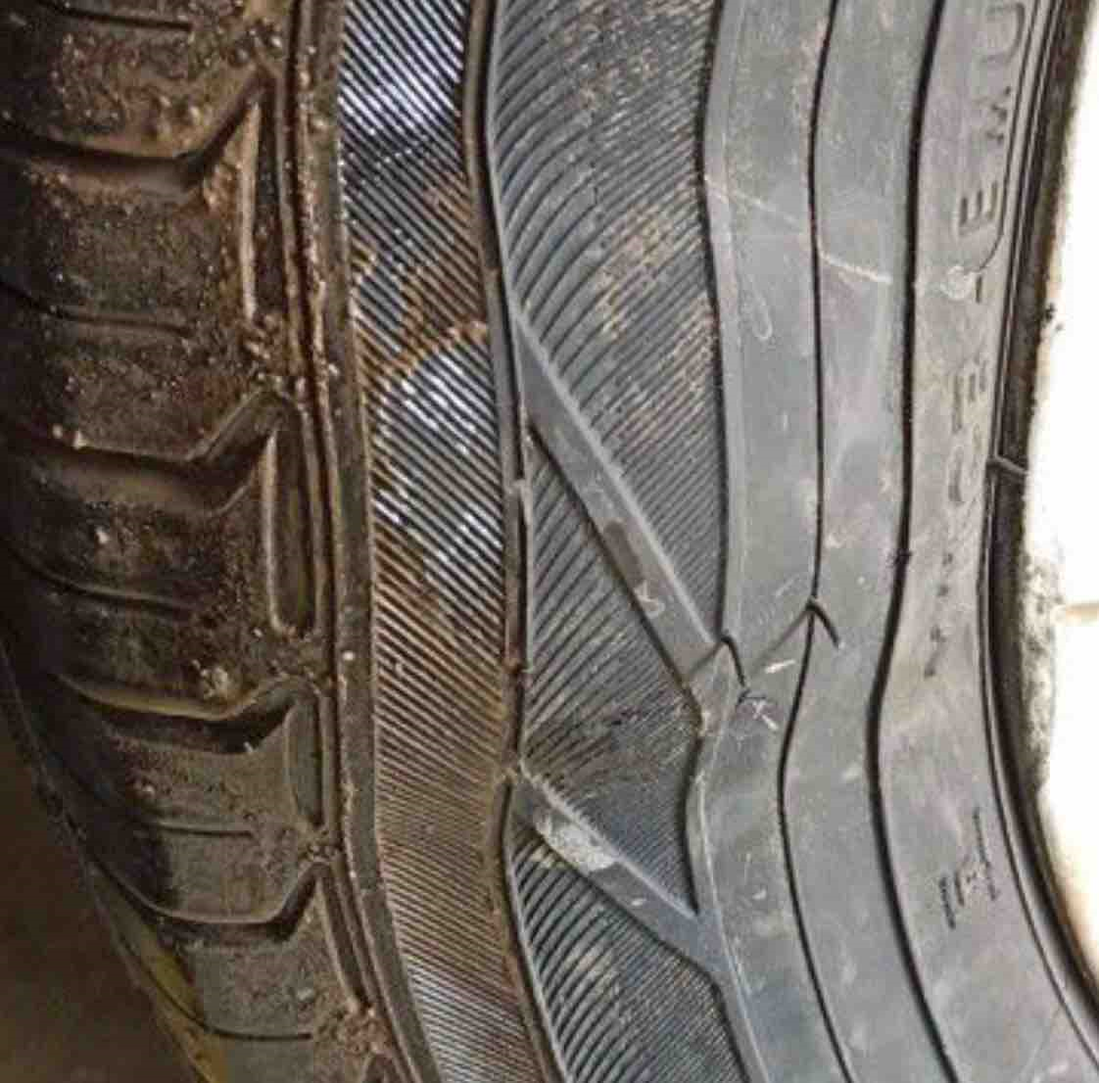CBU: (321, 206, 914, 786)
